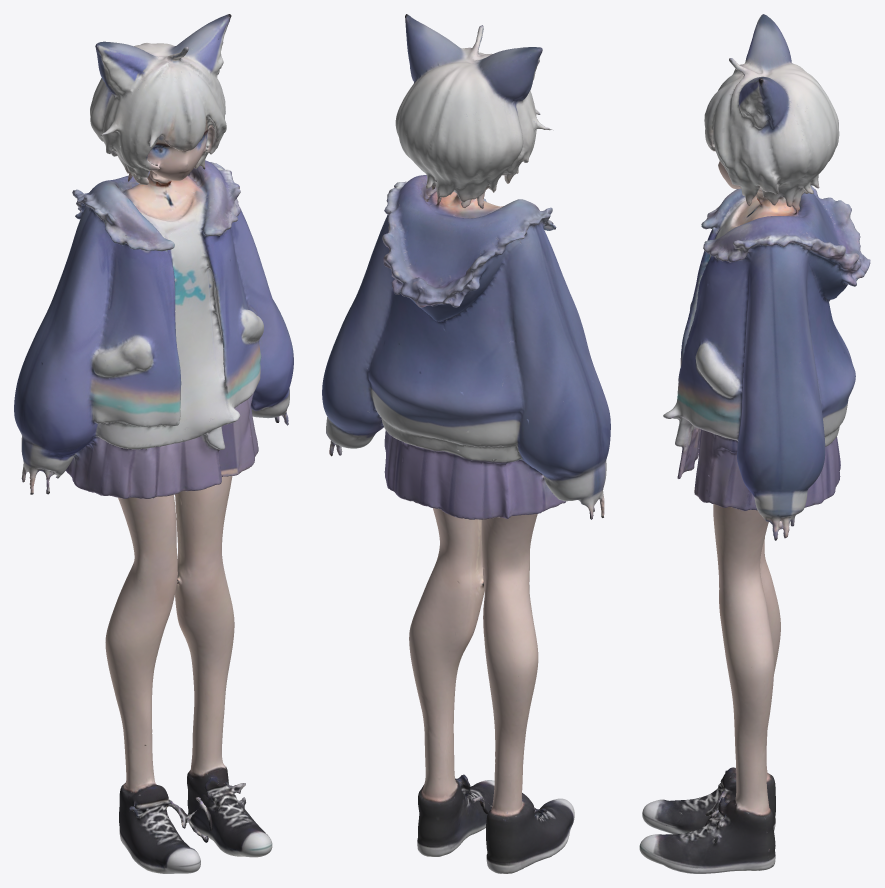
Rendered from sora-catgirl.glb.
The picture shows the model from 3 angles, left to right: view 1: azimuth 30°, elevation 25°; view 2: azimuth 150°, elevation 25°; view 3: azimuth 270°, elevation 25°; orthographic projection. The views are drawn at different scales.
Bounding box in the file's own units: 0.6873 × 2 × 0.5229.
1 material, 1 textured.
